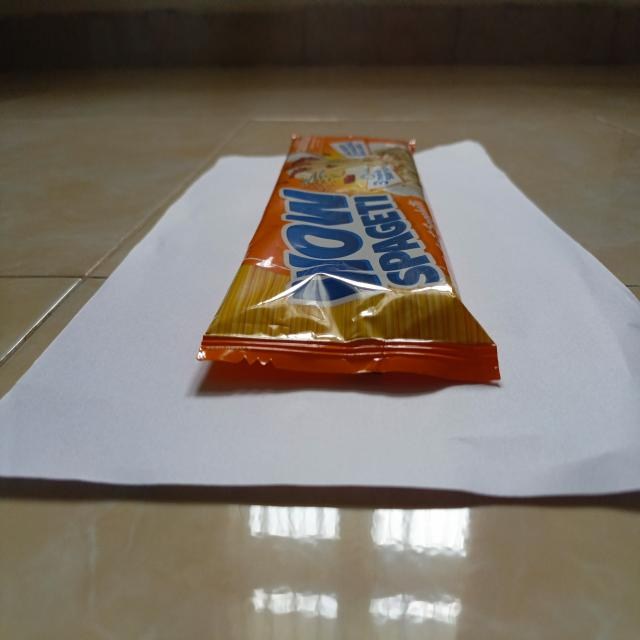indomie-tori-miso: (198, 133, 502, 391)
